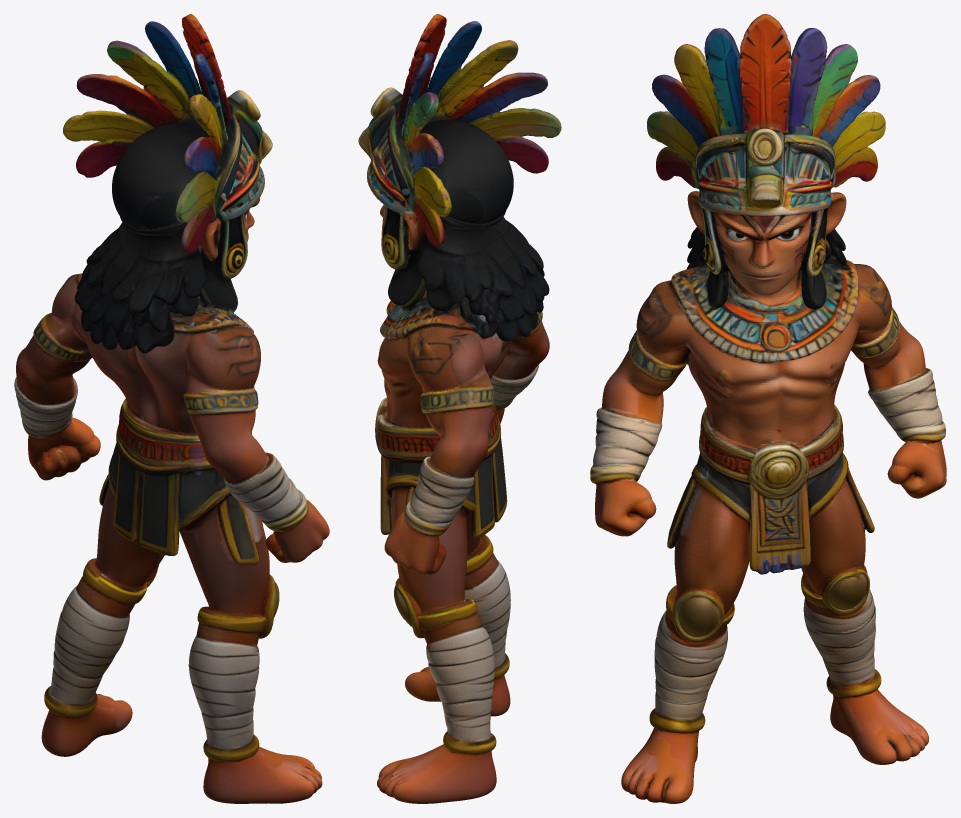
The model's file is 玛雅战士.glb.
3 views of the same model, side by side, from view 1: azimuth 30°, elevation 25°; view 2: azimuth 150°, elevation 25°; view 3: azimuth 270°, elevation 25° (orthographic). The views are drawn at different scales.
Visible parts, largest first — view 1: tripo_node_c3db20fb-a9b1-49c5-97a4-ecc1cc3a06a0; view 2: tripo_node_c3db20fb-a9b1-49c5-97a4-ecc1cc3a06a0; view 3: tripo_node_c3db20fb-a9b1-49c5-97a4-ecc1cc3a06a0.
Boxes of the visible parts, box(x1,y1,x2,y2) form: tripo_node_c3db20fb-a9b1-49c5-97a4-ecc1cc3a06a0: box(14, 14, 329, 803); tripo_node_c3db20fb-a9b1-49c5-97a4-ecc1cc3a06a0: box(358, 14, 561, 803); tripo_node_c3db20fb-a9b1-49c5-97a4-ecc1cc3a06a0: box(590, 14, 946, 803).
Size of the model in its own units: 0.2642 by 1 by 0.4274.
Materials: 1 (1 with a texture image).
